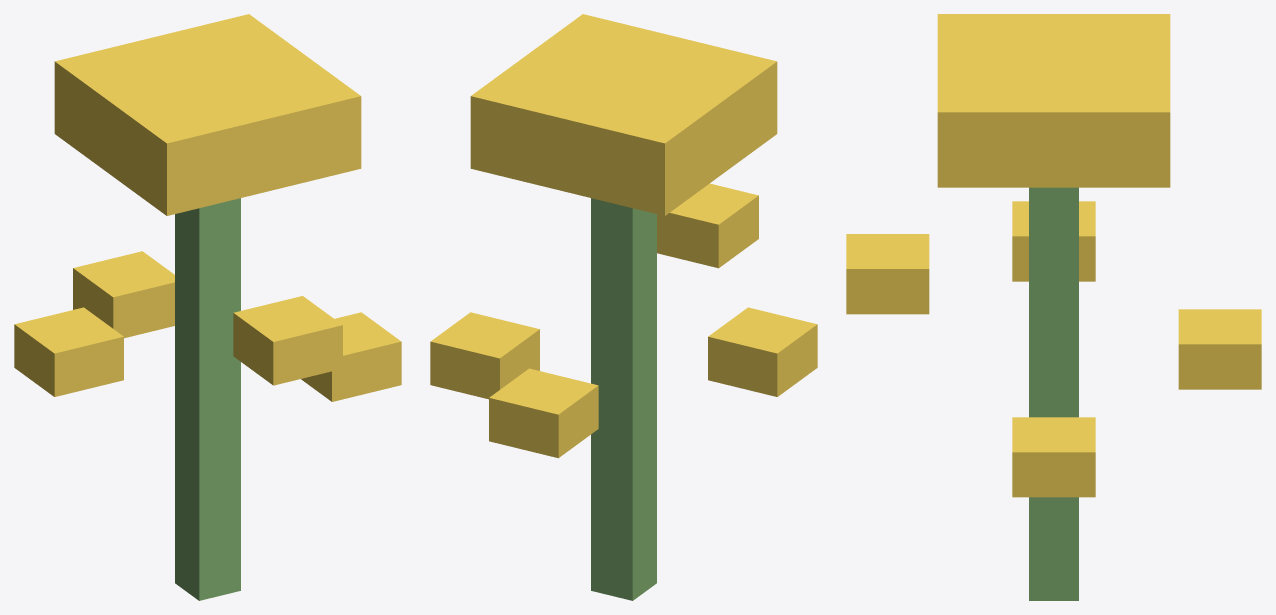
File: Prop_DS_Herb_OverclockThorn_S3_V1.glb
3 renders of one model, left to right at view 1: azimuth 30°, elevation 25°; view 2: azimuth 150°, elevation 25°; view 3: azimuth 270°, elevation 25°, orthographic. The views are drawn at different scales.
Parts seen in each view (by area): view 1: Prop_DS_Herb_OverclockThorn_S3_V1; view 2: Prop_DS_Herb_OverclockThorn_S3_V1; view 3: Prop_DS_Herb_OverclockThorn_S3_V1.
Boxes of the visible parts, <box> form: Prop_DS_Herb_OverclockThorn_S3_V1: <box>14,14,401,600</box>; Prop_DS_Herb_OverclockThorn_S3_V1: <box>430,14,817,600</box>; Prop_DS_Herb_OverclockThorn_S3_V1: <box>846,14,1261,600</box>.
Bounding box in the file's own units: 0.5 × 0.7 × 0.5.
